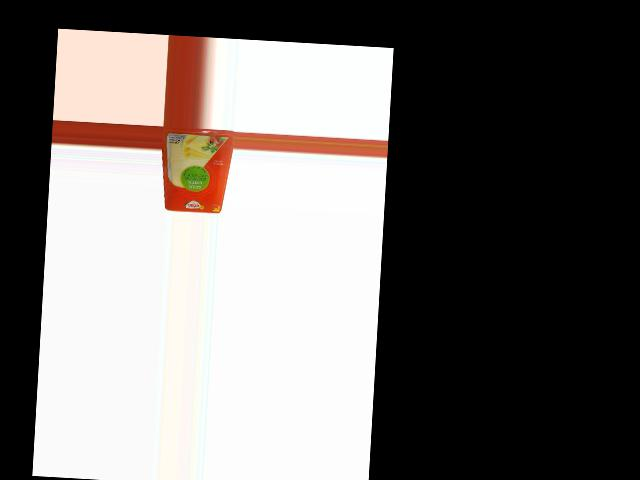cheese: (160, 126, 234, 213)
